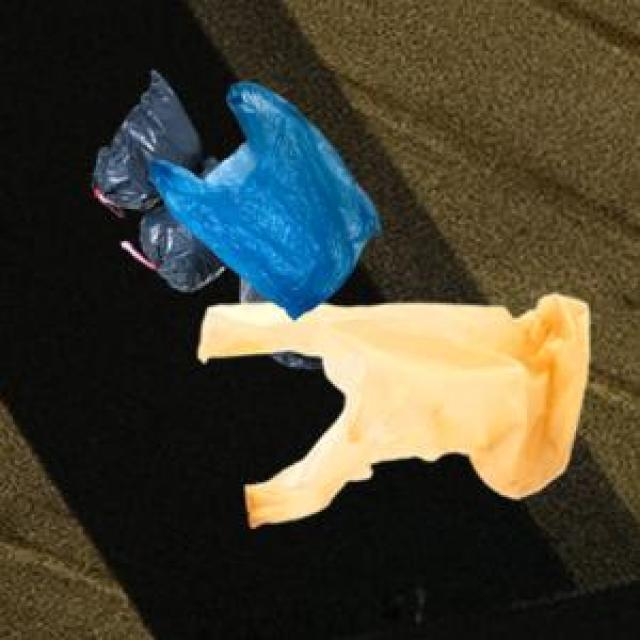miscellaneous trash: (88, 66, 320, 365)
